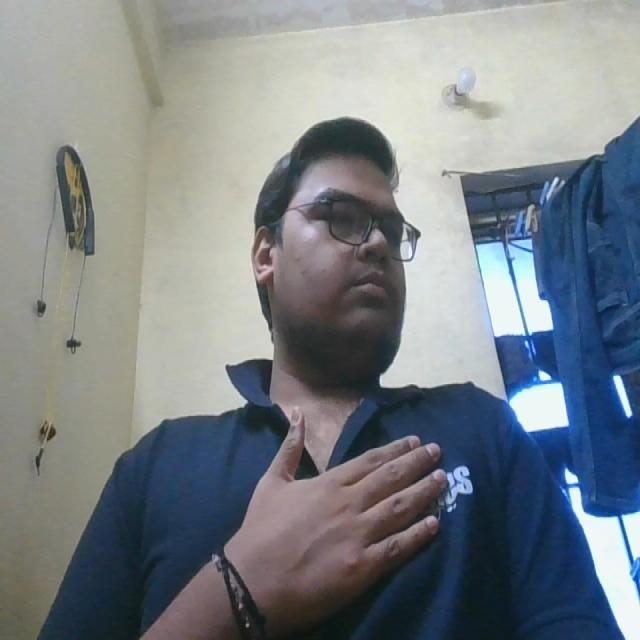Please: (223, 400, 457, 636)
